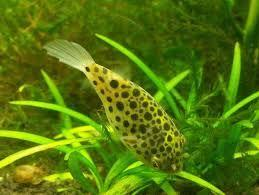Green Spotted Puffer: (44, 40, 189, 177)
